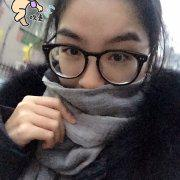WRONG: (49, 21, 151, 123)
